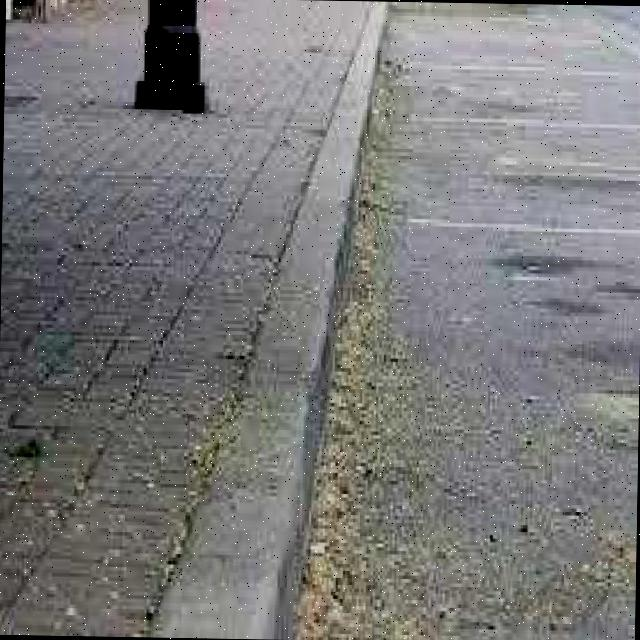curb: (160, 352, 350, 640), (266, 157, 378, 342), (332, 3, 402, 211)
